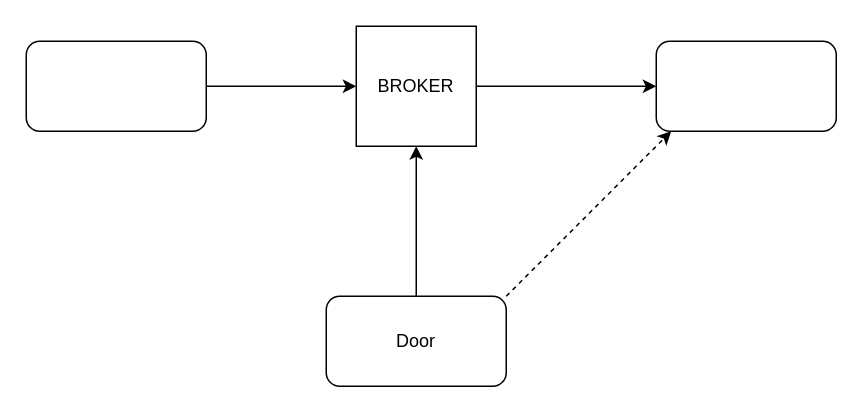
This 863x413 diagram has some shape labels left out. The centre of each missing label's shape, as x and y in pixels:
App Management: the point at 115,85
Thermostat: the point at 745,85
